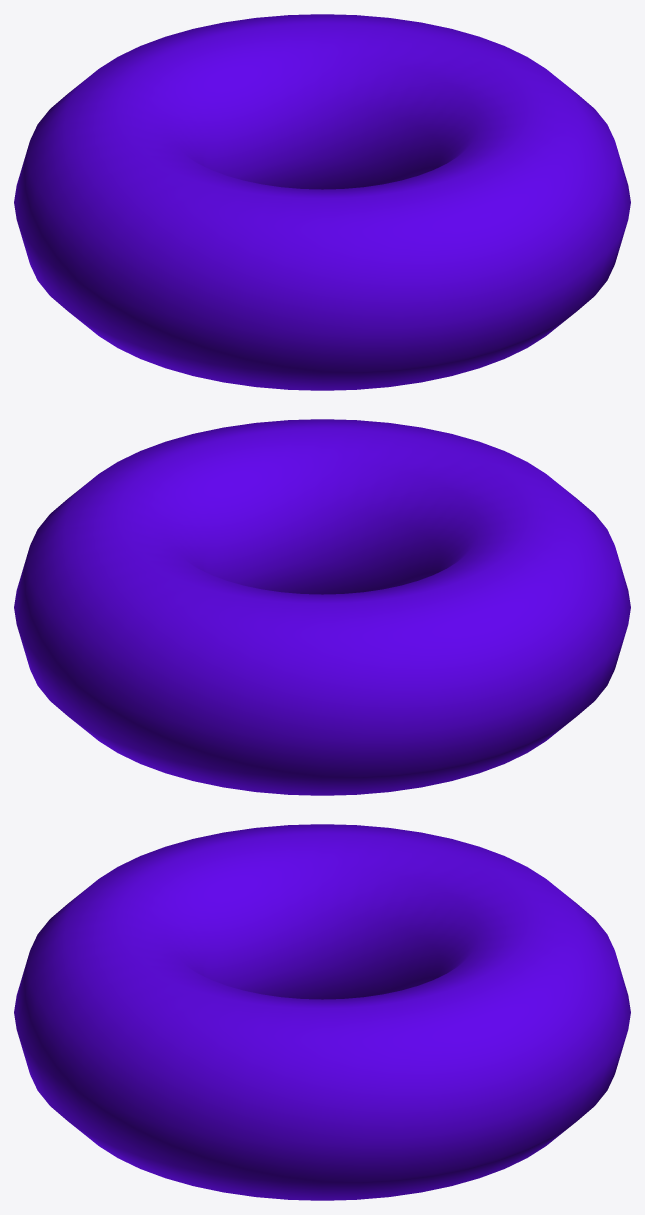
3 renders of one model, top to bottom at view 1: azimuth 30°, elevation 25°; view 2: azimuth 150°, elevation 25°; view 3: azimuth 270°, elevation 25°, orthographic.
Parts seen in each view (by area): view 1: Torus; view 2: Torus; view 3: Torus.
Part boxes in pixels (x1,y1,x2,y2): Torus: (14, 14, 630, 390); Torus: (14, 419, 630, 795); Torus: (14, 824, 630, 1200).
Bounding box in the file's own units: 3.86 × 1.26 × 3.86.
